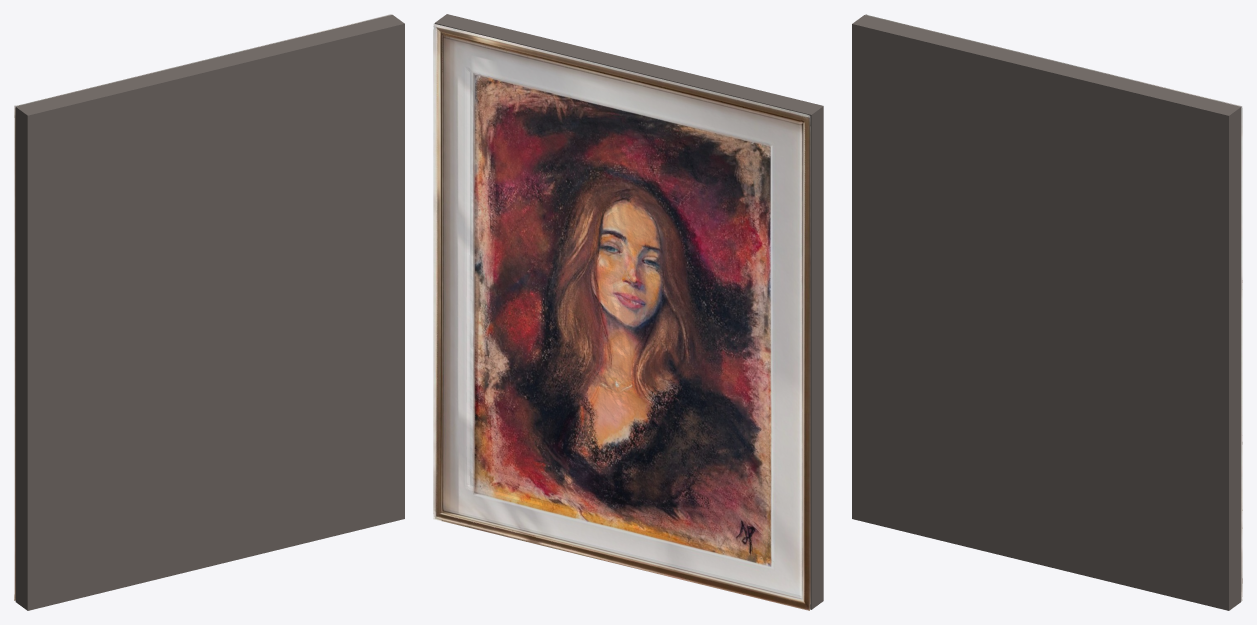
File: cuadro_retrato_3d.glb
The picture shows the model from 3 angles, left to right: view 1: azimuth 30°, elevation 25°; view 2: azimuth 150°, elevation 25°; view 3: azimuth 330°, elevation 25°; orthographic projection.
Visible parts, largest first — view 1: body, front; view 2: front, body; view 3: body, front.
Boxes of the visible parts, x1,y1,x2,y2 form: body: (15, 14, 404, 610); front: (14, 14, 391, 600); front: (433, 24, 810, 610); body: (434, 14, 823, 609); body: (852, 15, 1241, 610); front: (865, 14, 1242, 600).
Size of the model in its own units: 0.7967 by 1 by 0.0509.
1 material, 1 textured.
